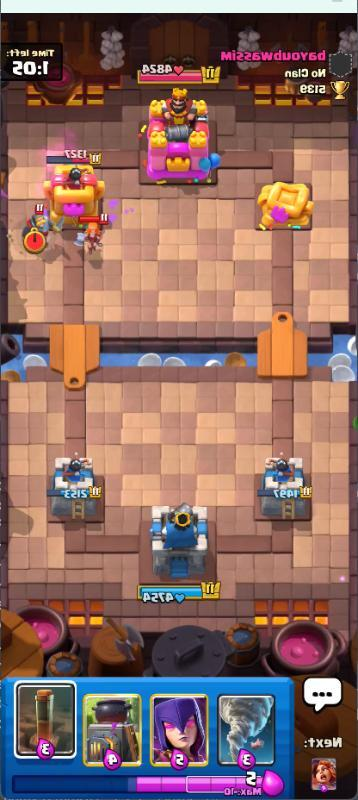enemy_knight: (15, 201, 70, 251)
enemy_valkyrie: (74, 210, 113, 259)
